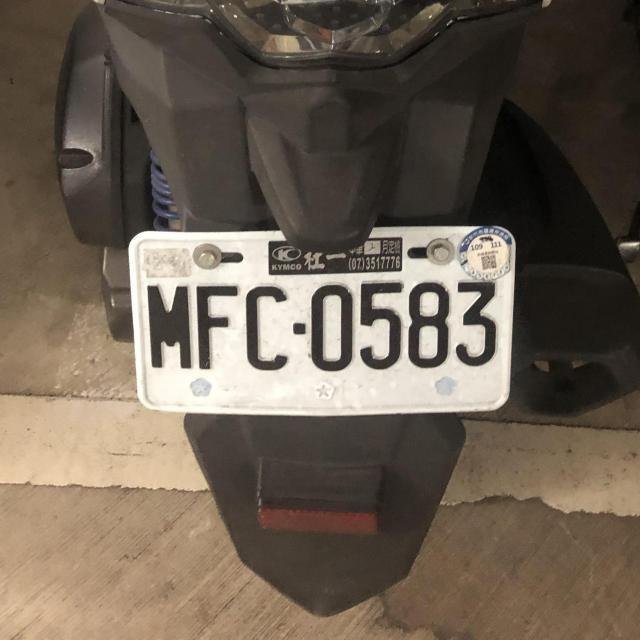W: (121, 211, 525, 431)
